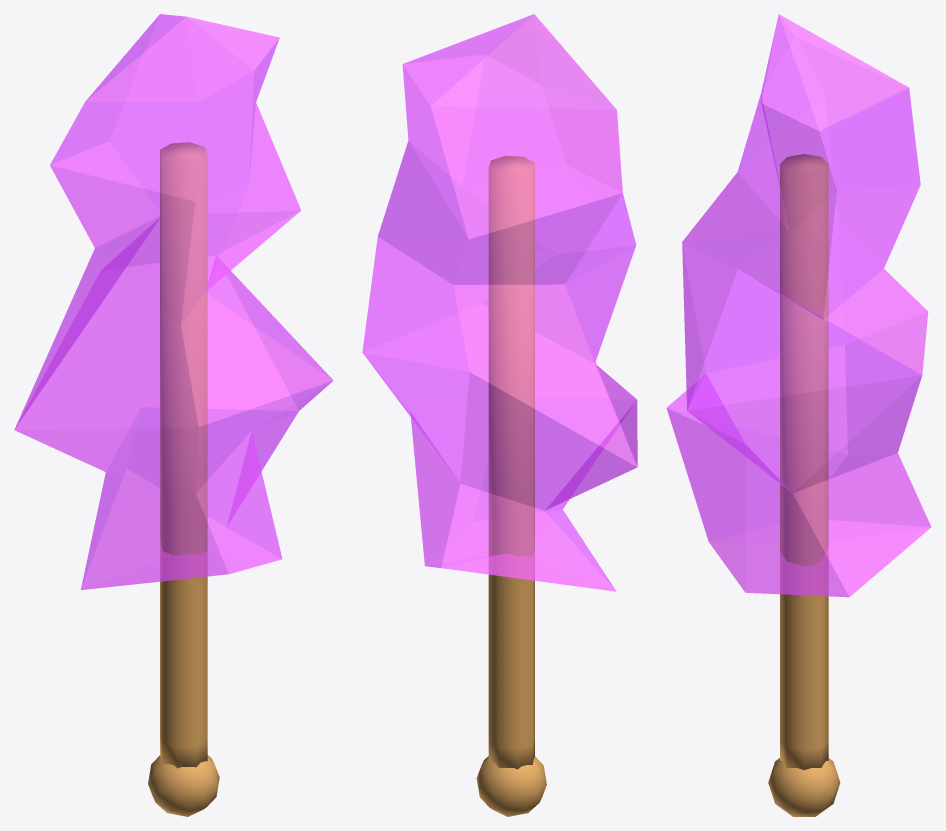
File: Rock_Candy_rev_2.fbx
3 views of the same model, side by side, from view 1: azimuth 30°, elevation 25°; view 2: azimuth 150°, elevation 25°; view 3: azimuth 270°, elevation 25° (orthographic). The views are drawn at different scales.
Visible parts, largest first — view 1: Rock candy pent, Rock candy Stick; view 2: Rock candy pent, Rock candy Stick; view 3: Rock candy pent, Rock candy Stick.
Boxes of the visible parts, x1,y1,x2,y2 form: Rock candy pent: (14,14,333,589); Rock candy Stick: (148,142,219,816); Rock candy pent: (362,14,637,591); Rock candy Stick: (476,155,546,816); Rock candy pent: (666,14,931,597); Rock candy Stick: (768,154,840,816).
Size of the model in its own units: 2.85 by 3.37 by 9.45.
